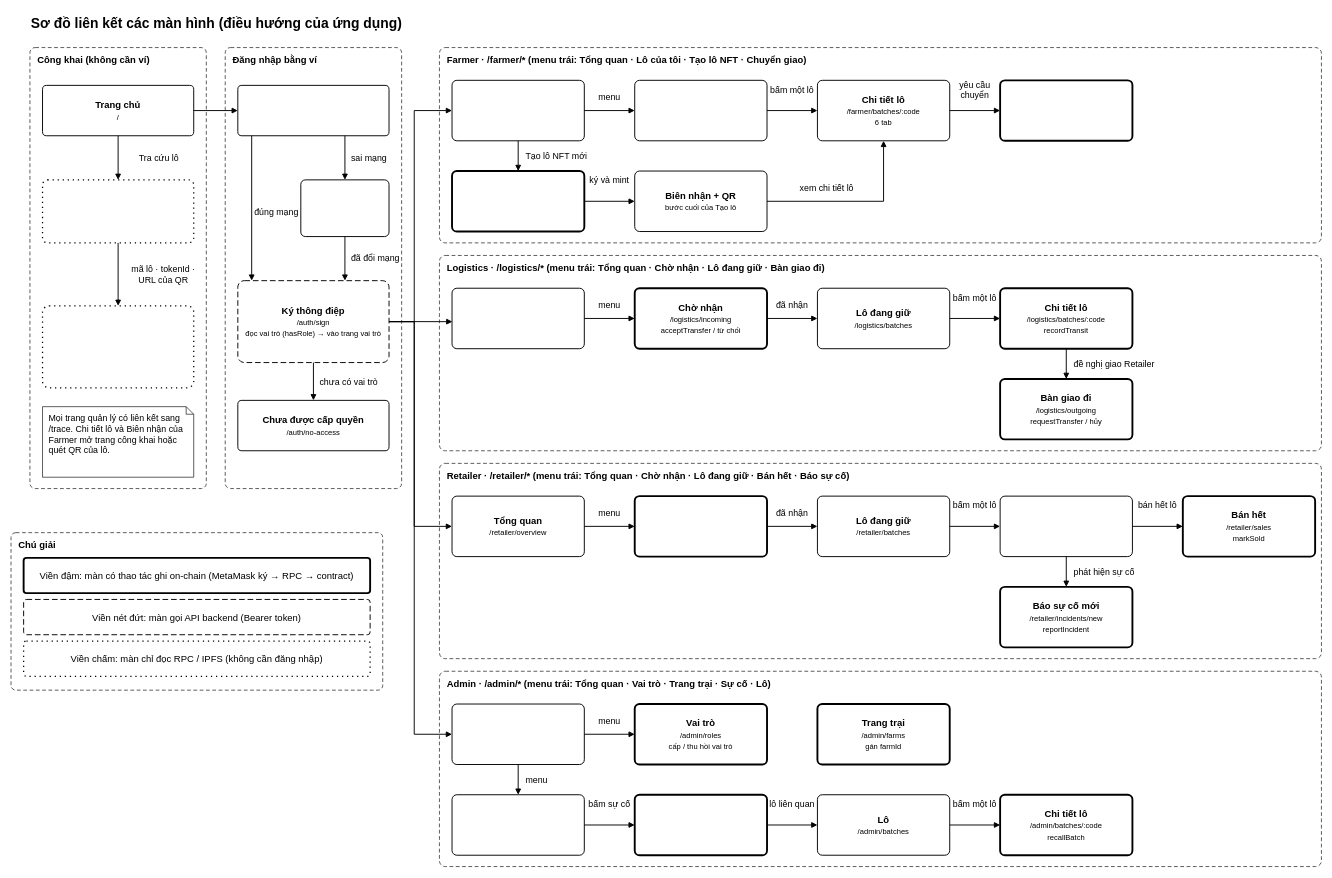
The diagram is 1332 pixels wide and 878 high, and some of its shapes have lost their labels. The shapes that lost their labels are listed below. From the top down, each one's centre as x and y in pixels, then its label:
At (313,110): "Kết nối ví /connect".
At (518,110): "Tổng quan /farmer/overview".
At (700,110): "Lô của tôi /farmer/batches".
At (1066,110): "Chuyển giao /farmer/transfers requestTransfer / hủy".
At (118,211): "Tra cứu lô /trace nhập mã · quét QR (camera, ảnh)".
At (344,208): "Sai mạng /auth/network".
At (518,201): "Tạo lô NFT /farmer/create 5 bước, createBatch".
At (518,318): "Tổng quan /logistics/overview".
At (118,346): "Chi tiết lô công khai /trace/:chainId/:contract/:tokenId 5 tab + mã QR".
At (700,526): "Chờ nhận /retailer/incoming acceptTransfer + 3 hash".
At (1066,526): "Chi tiết lô /retailer/batches/:code".
At (518,734): "Tổng quan /admin/overview".
At (518,824): "Sự cố /admin/incidents".
At (700,824): "Chi tiết sự cố /admin/incidents/:id recallBatch".
